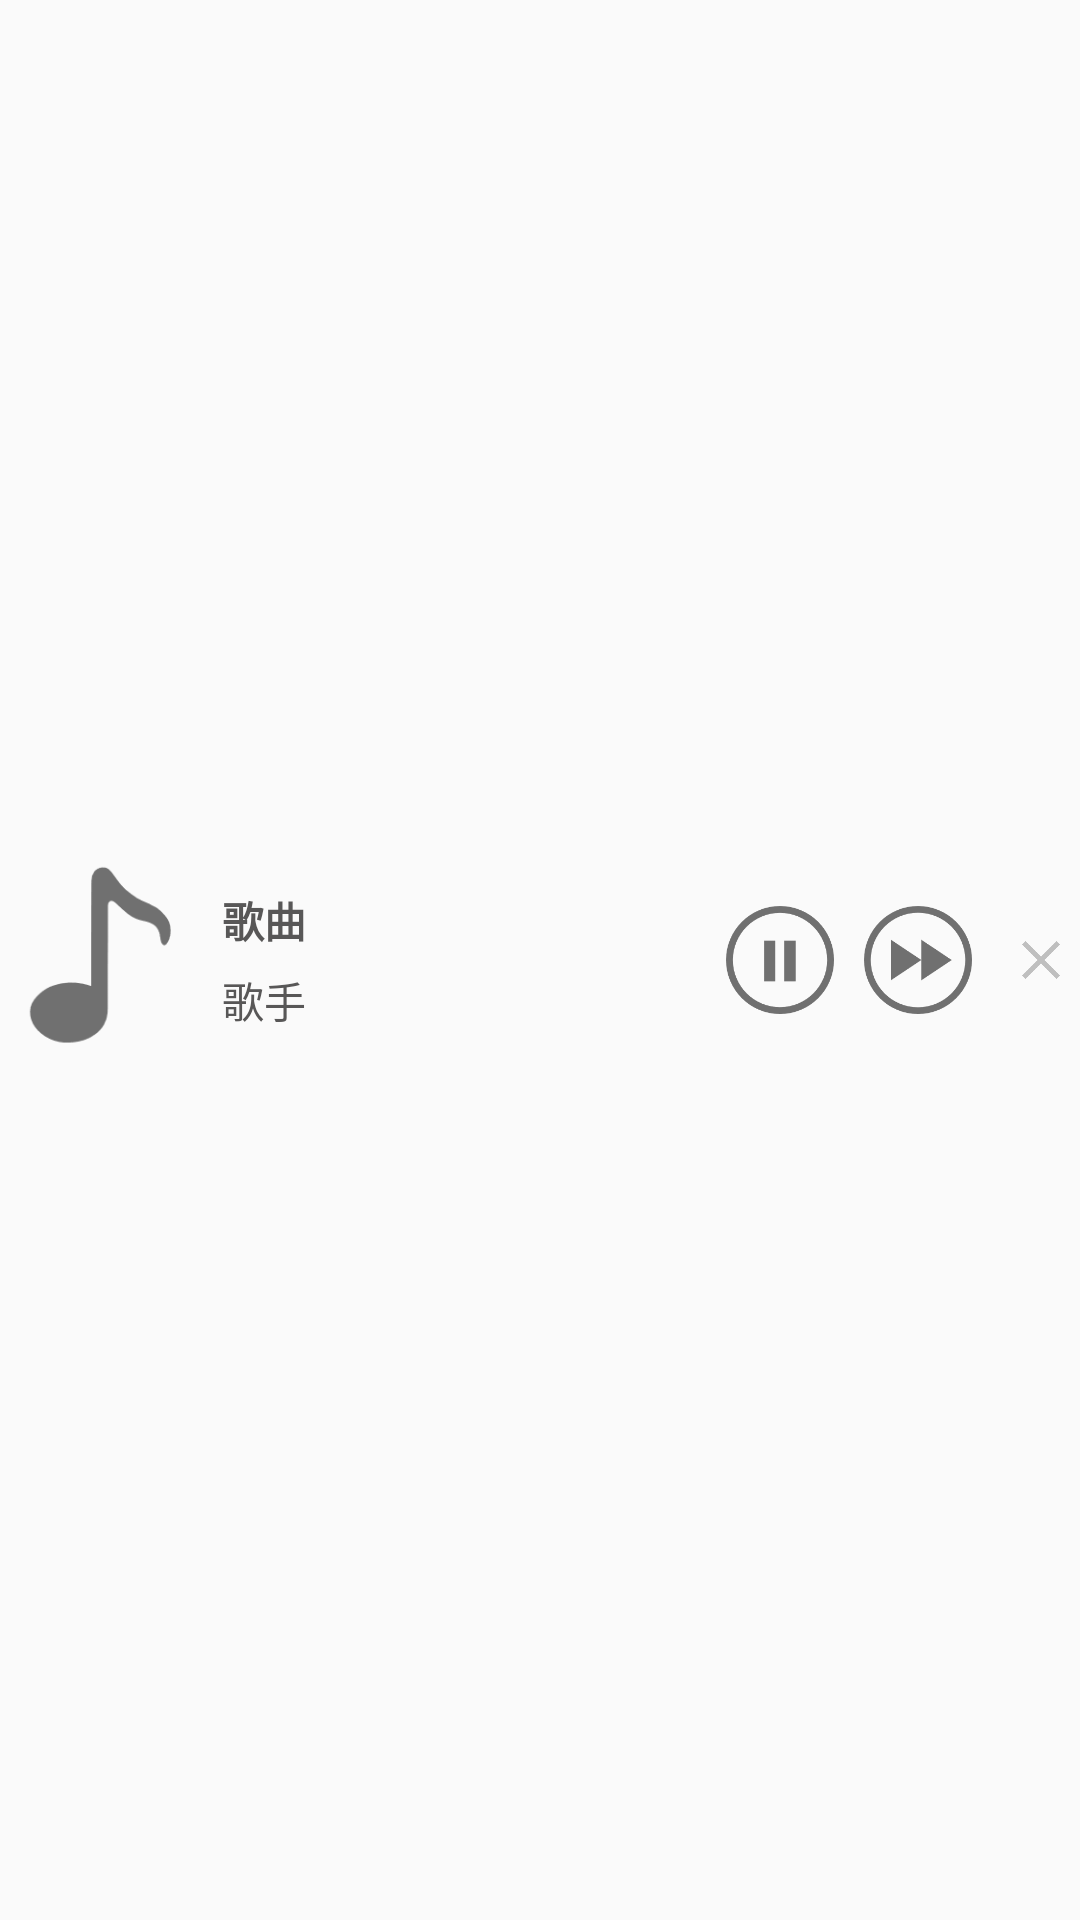

Named icons in this screenshot (1080px×1920px) and their bounding boxes, (x1, y1, x2, y2):
music play next: (864, 906, 972, 1014)
music stop noti: (1022, 941, 1060, 979)
